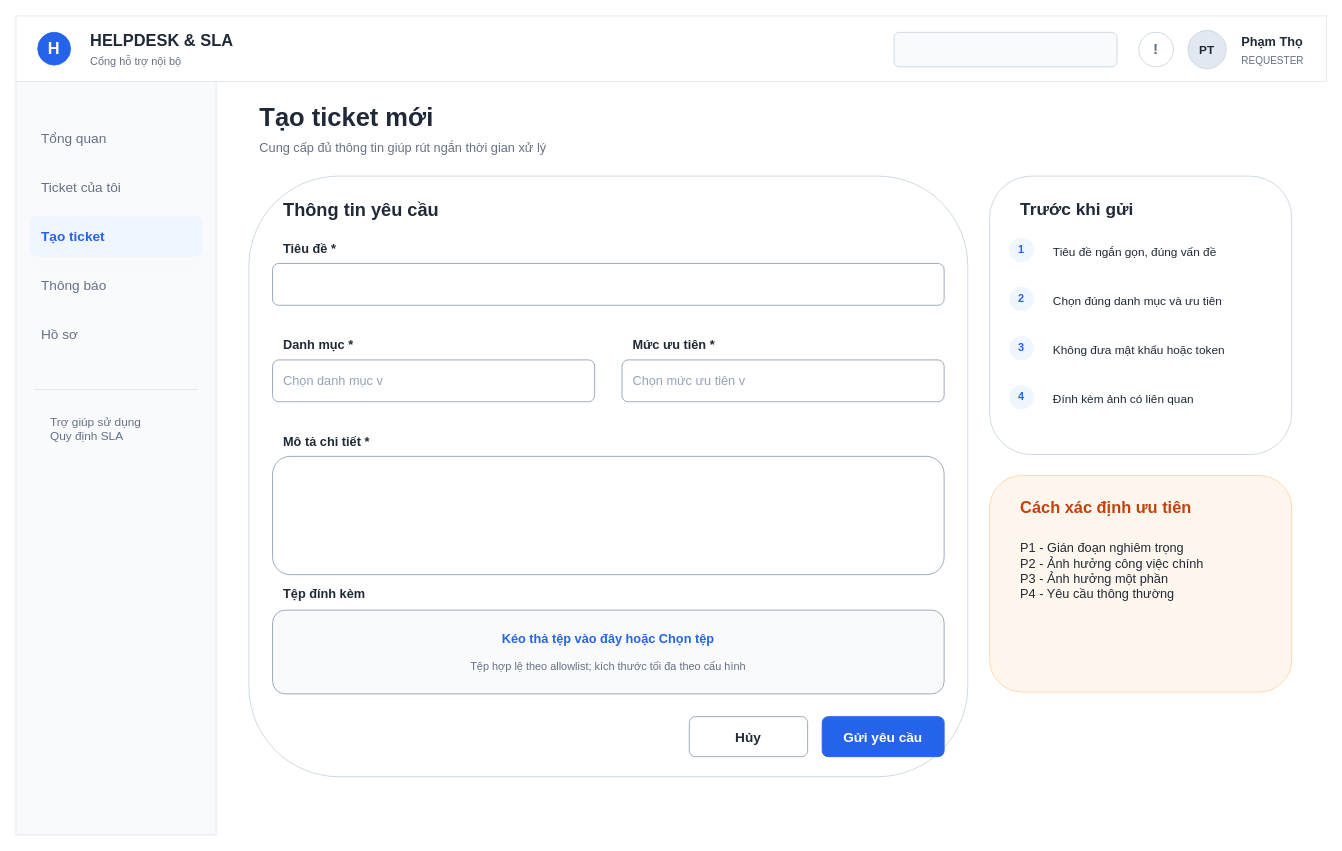
This 1342x851 diagram has some shape labels left out. Each missing label, with the centre of its shape:
"Mô tả sự cố, thời điểm xảy ra, thao tác đã thử..." goes at (x=608, y=515).
"Tìm theo mã hoặc tiêu đề..." goes at (x=1005, y=49).
"Ví dụ: Không đăng nhập được hệ thống kế toán" goes at (x=608, y=284).
